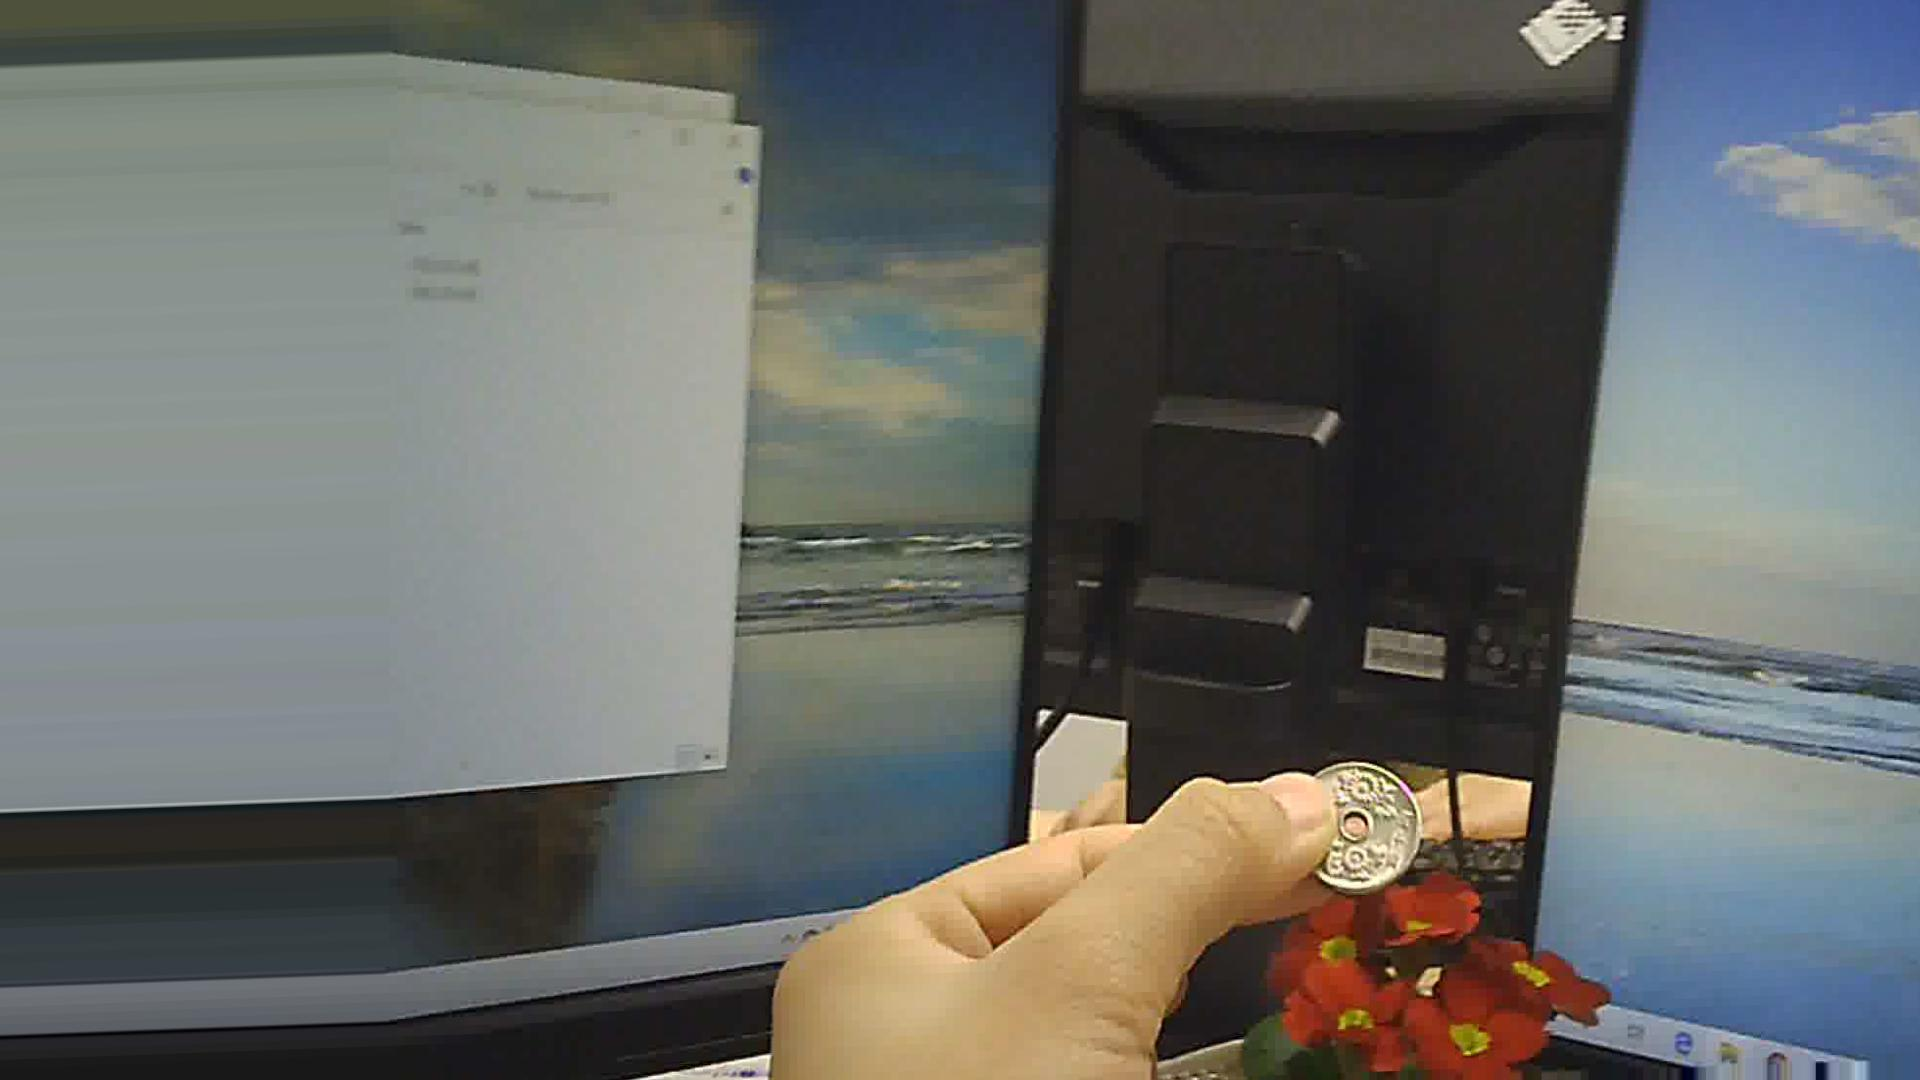50 Yen: (1288, 767, 1423, 891)
